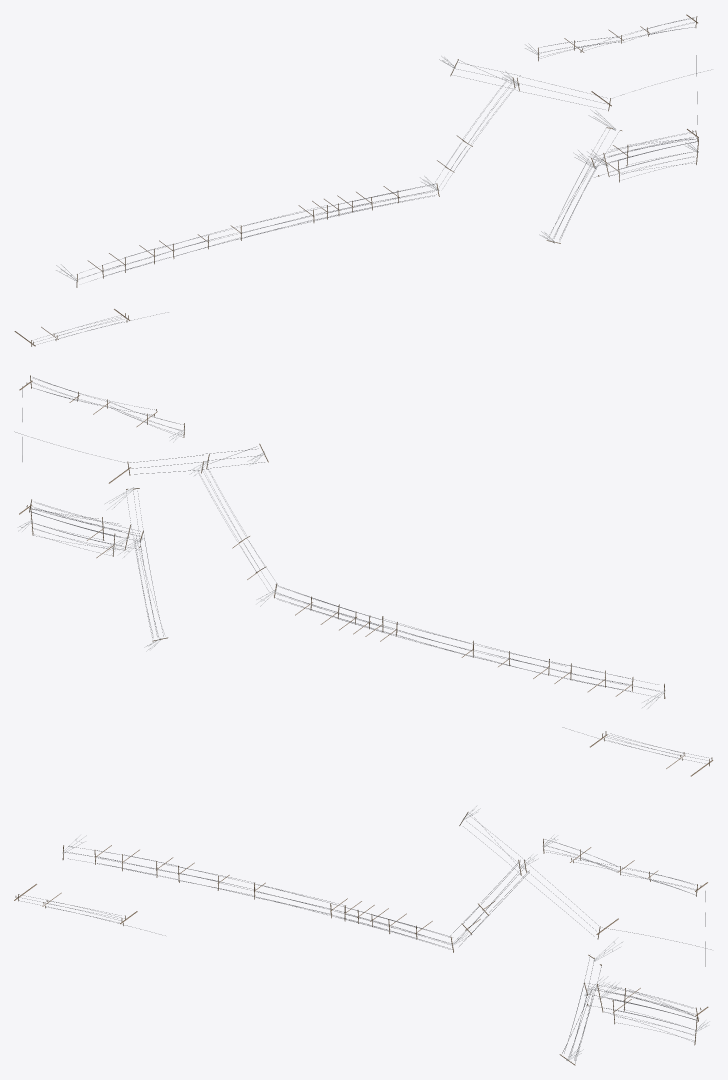
File: white_river_poles_lines_model.glb
The picture shows the model from 3 angles, top to bottom: view 1: azimuth 30°, elevation 25°; view 2: azimuth 150°, elevation 25°; view 3: azimuth 330°, elevation 25°; orthographic projection. The views are drawn at different scales.
Parts seen in each view (by area): view 1: wires, arms, steel, poles; view 2: wires, steel, arms; view 3: wires, arms, steel, poles.
Part boxes in pixels (bbox=[...]): wires: bbox=[32, 17, 711, 345]; arms: bbox=[31, 16, 698, 346]; steel: bbox=[56, 43, 698, 281]; poles: bbox=[14, 14, 698, 346]; wires: bbox=[14, 377, 711, 763]; steel: bbox=[18, 430, 665, 708]; arms: bbox=[26, 375, 712, 766]; wires: bbox=[17, 813, 711, 1063]; arms: bbox=[15, 811, 701, 1065]; steel: bbox=[62, 805, 709, 1060]; poles: bbox=[14, 845, 708, 1016].
Bounding box in the file's own units: 387 × 116 × 46.13.
